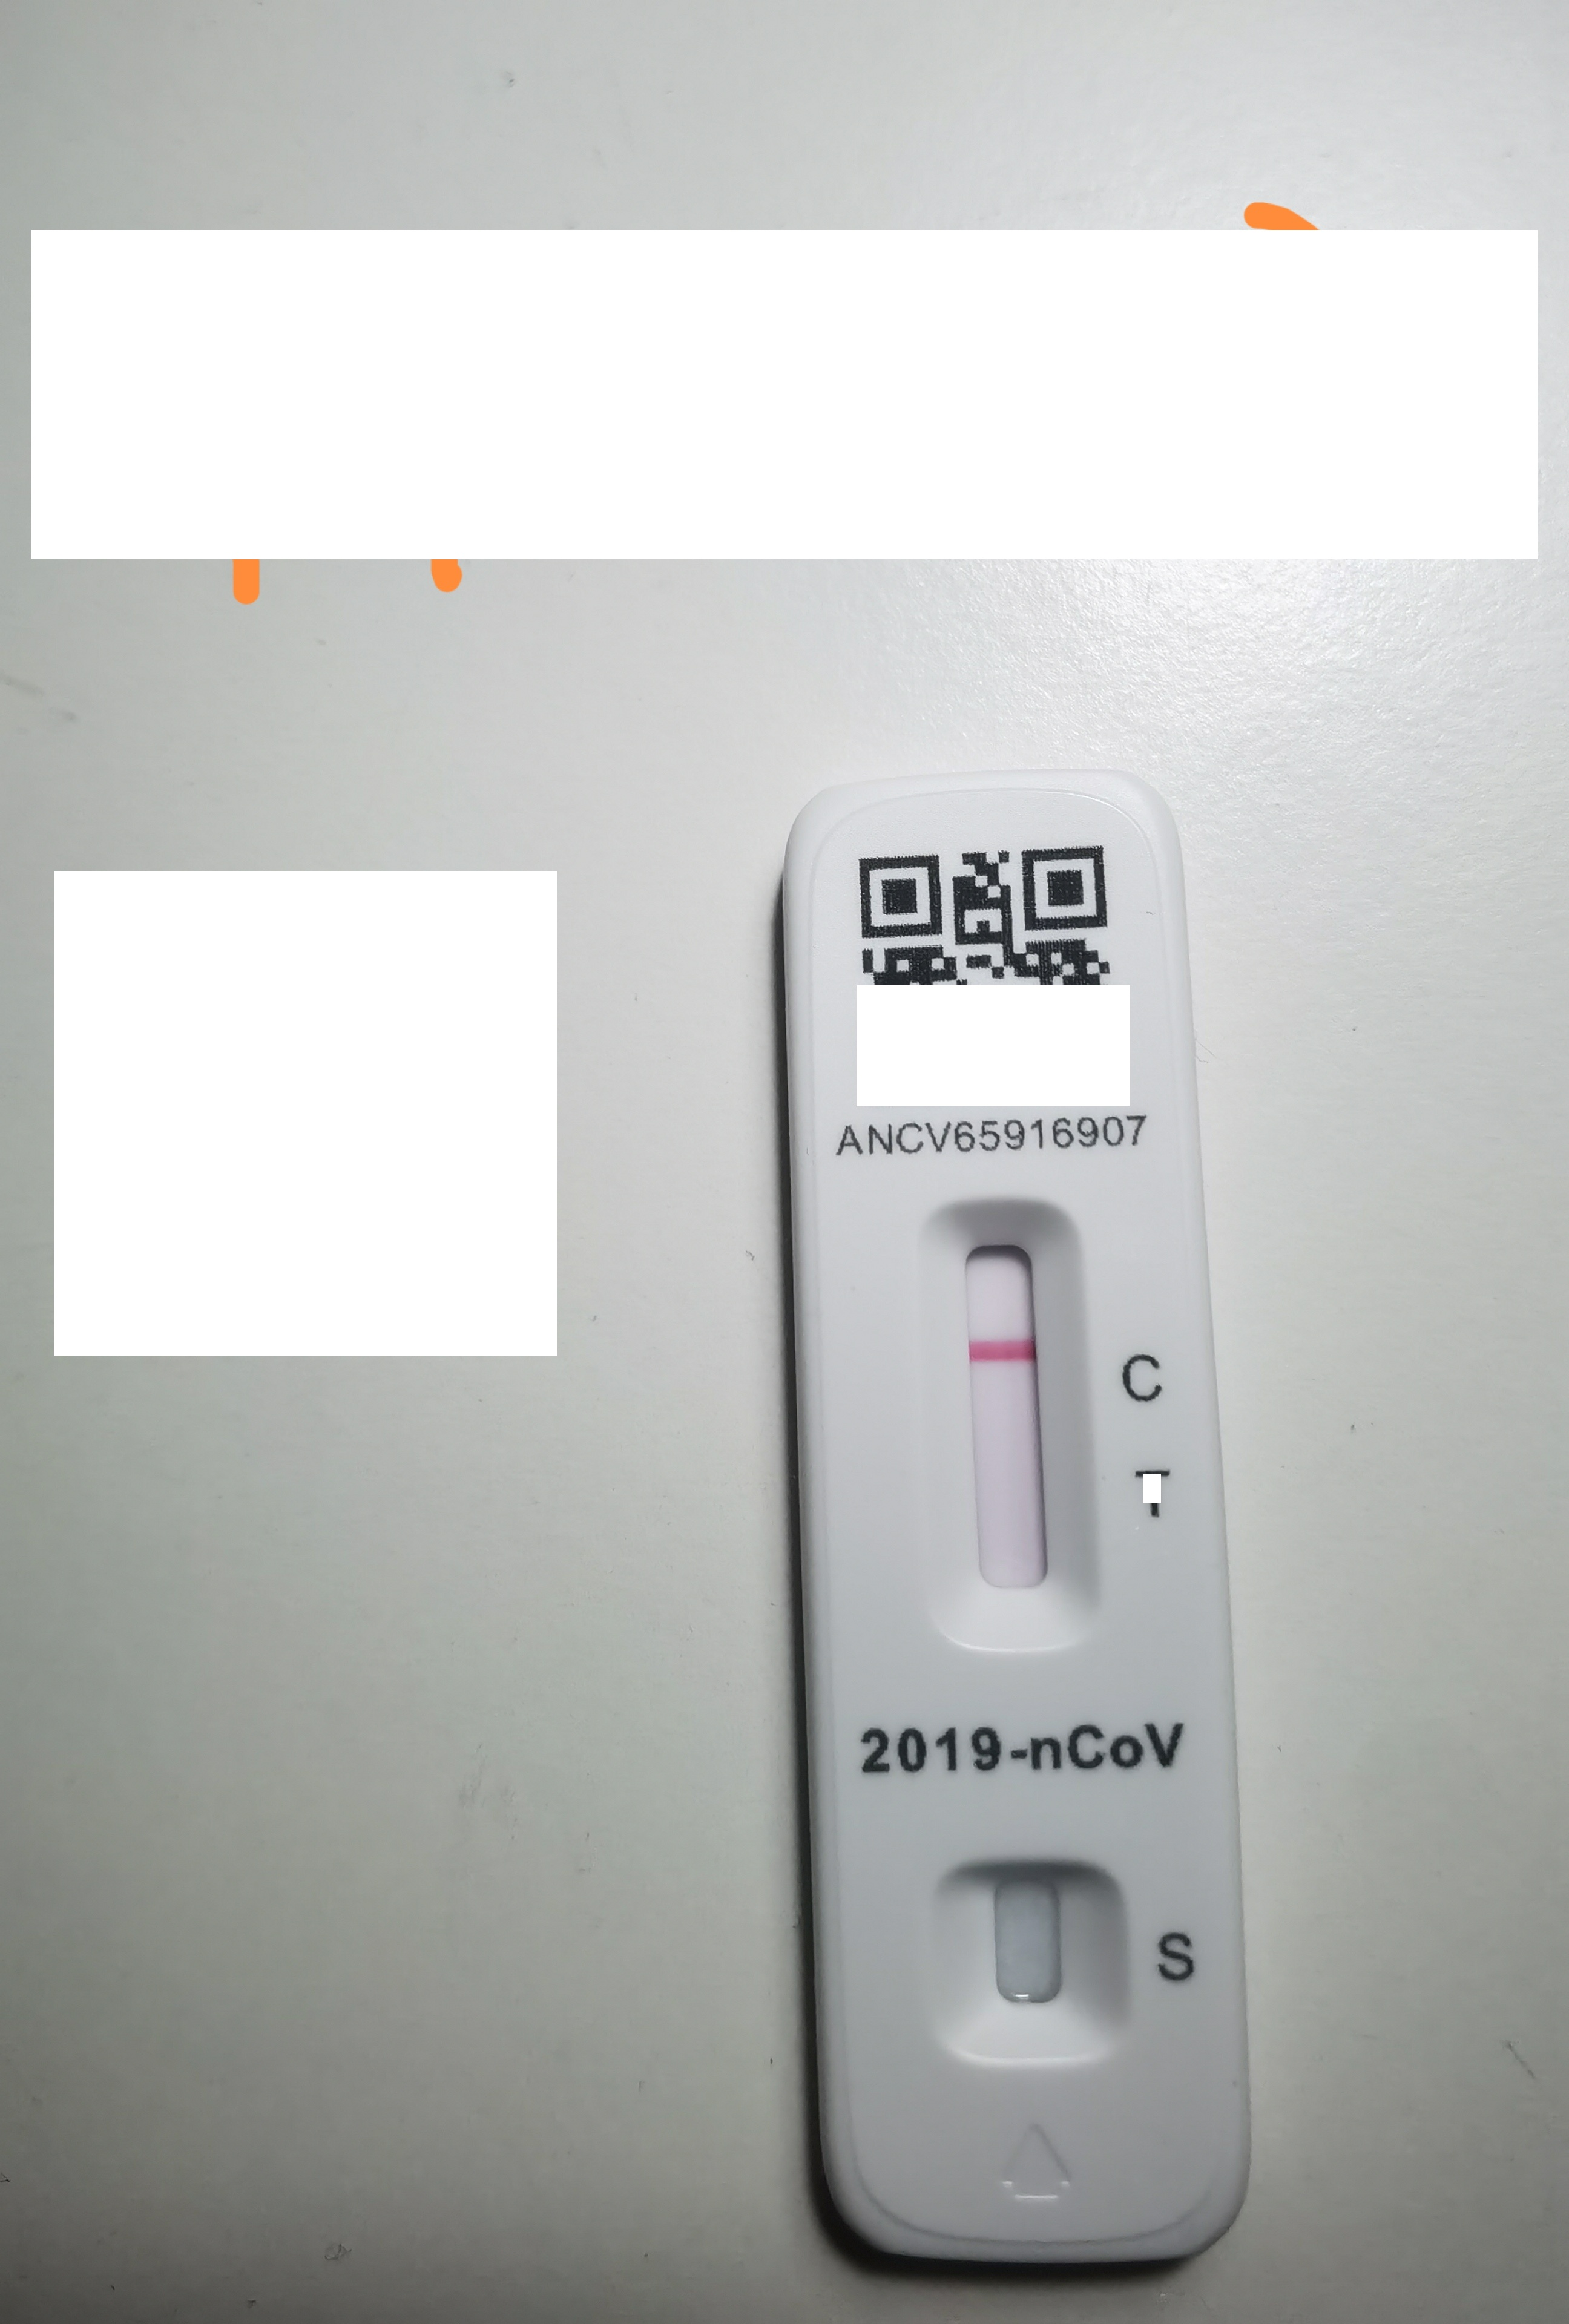negative: (925, 1197, 1089, 1668)
